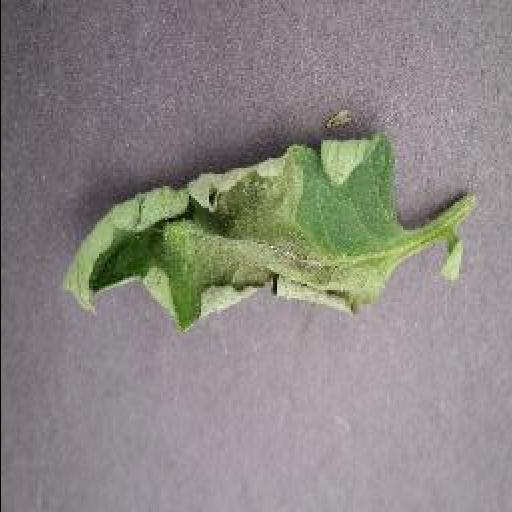disease_tomato: (58, 125, 406, 335)
